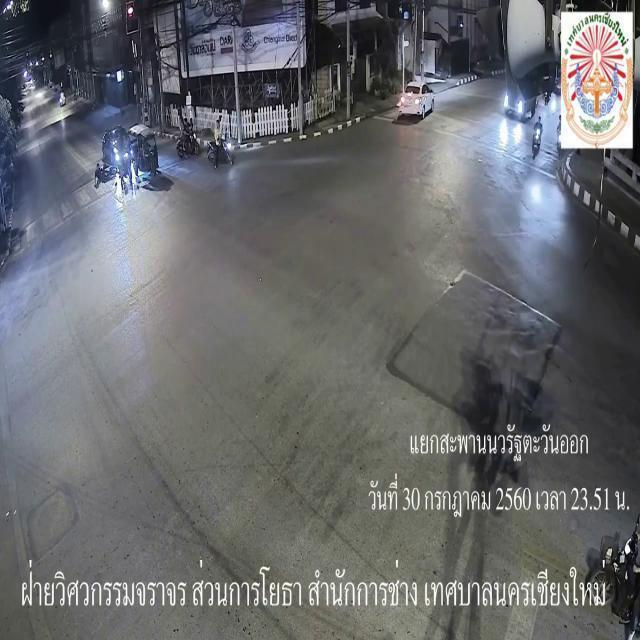accident: (92, 122, 162, 198)
non-accident: (175, 116, 237, 170)
